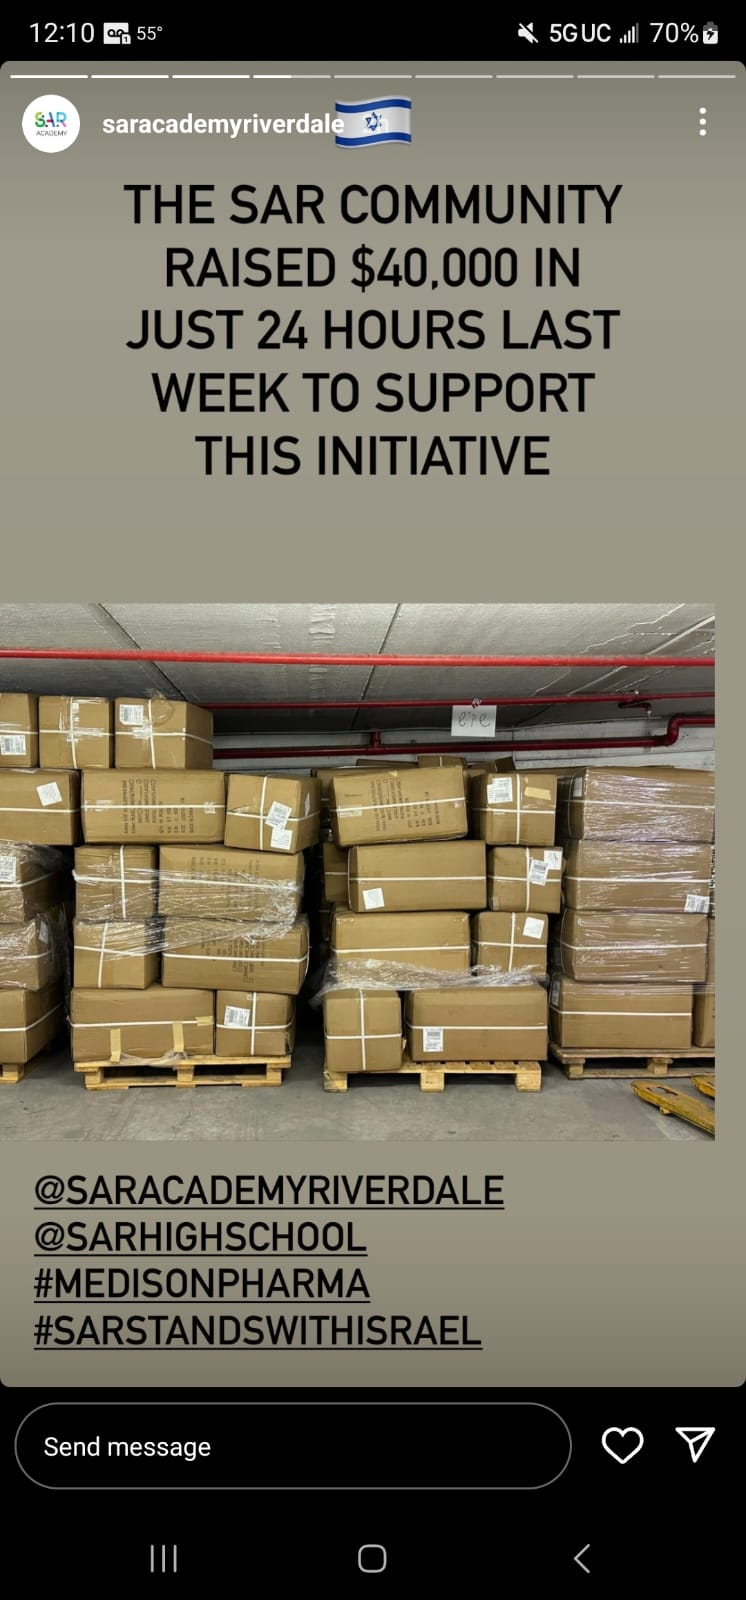box: (150, 827, 325, 939), (543, 955, 706, 1069), (318, 762, 471, 864), (336, 824, 485, 923), (562, 827, 718, 918), (336, 830, 497, 918), (155, 906, 311, 997), (560, 902, 718, 988), (399, 983, 555, 1064), (55, 816, 164, 927), (83, 767, 236, 846), (583, 755, 720, 839), (346, 913, 492, 992), (71, 978, 220, 1050), (71, 918, 190, 1004), (313, 992, 401, 1097), (108, 688, 218, 769), (27, 674, 127, 764)
